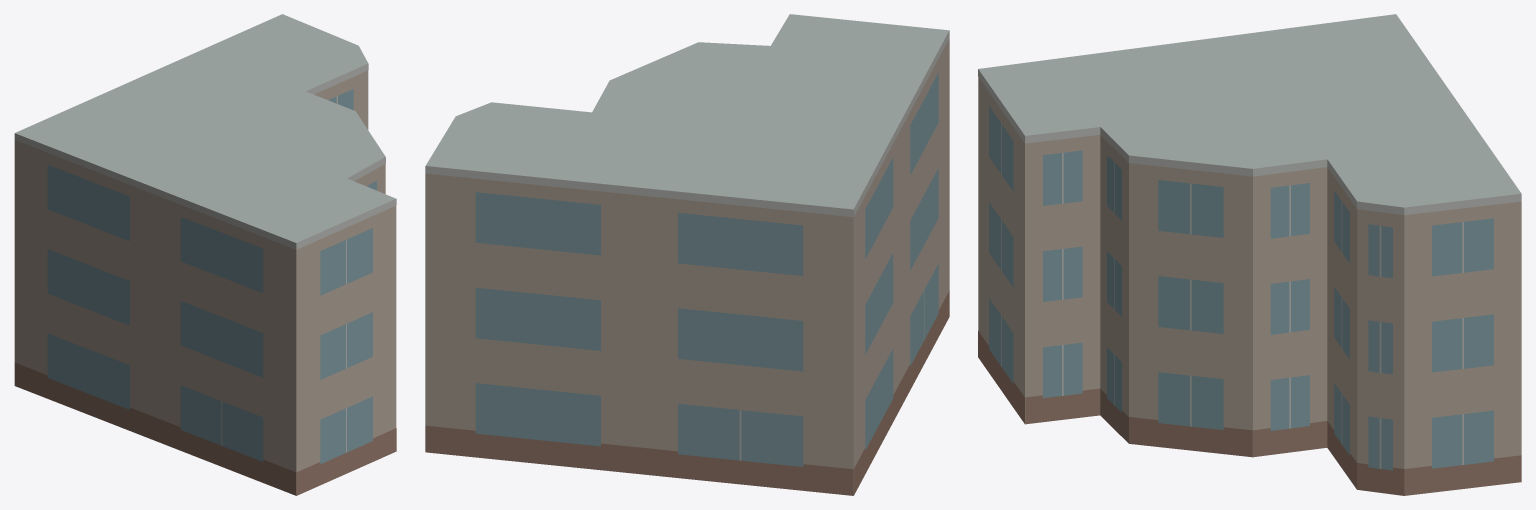
The model's file is survey-upis-32667190.glb.
The picture shows the model from 3 angles, left to right: view 1: azimuth 30°, elevation 25°; view 2: azimuth 150°, elevation 25°; view 3: azimuth 270°, elevation 25°; orthographic projection. The views are drawn at different scales.
Parts seen in each view (by area): view 1: survey-upis-32667190.tmp; view 2: survey-upis-32667190.tmp; view 3: survey-upis-32667190.tmp.
Part boxes in pixels (box(x1,y1,x2,y2)): survey-upis-32667190.tmp: box(14, 14, 396, 495); survey-upis-32667190.tmp: box(425, 14, 949, 495); survey-upis-32667190.tmp: box(978, 14, 1521, 495).
Bounding box in the file's own units: 13.18 × 9.15 × 15.64.
